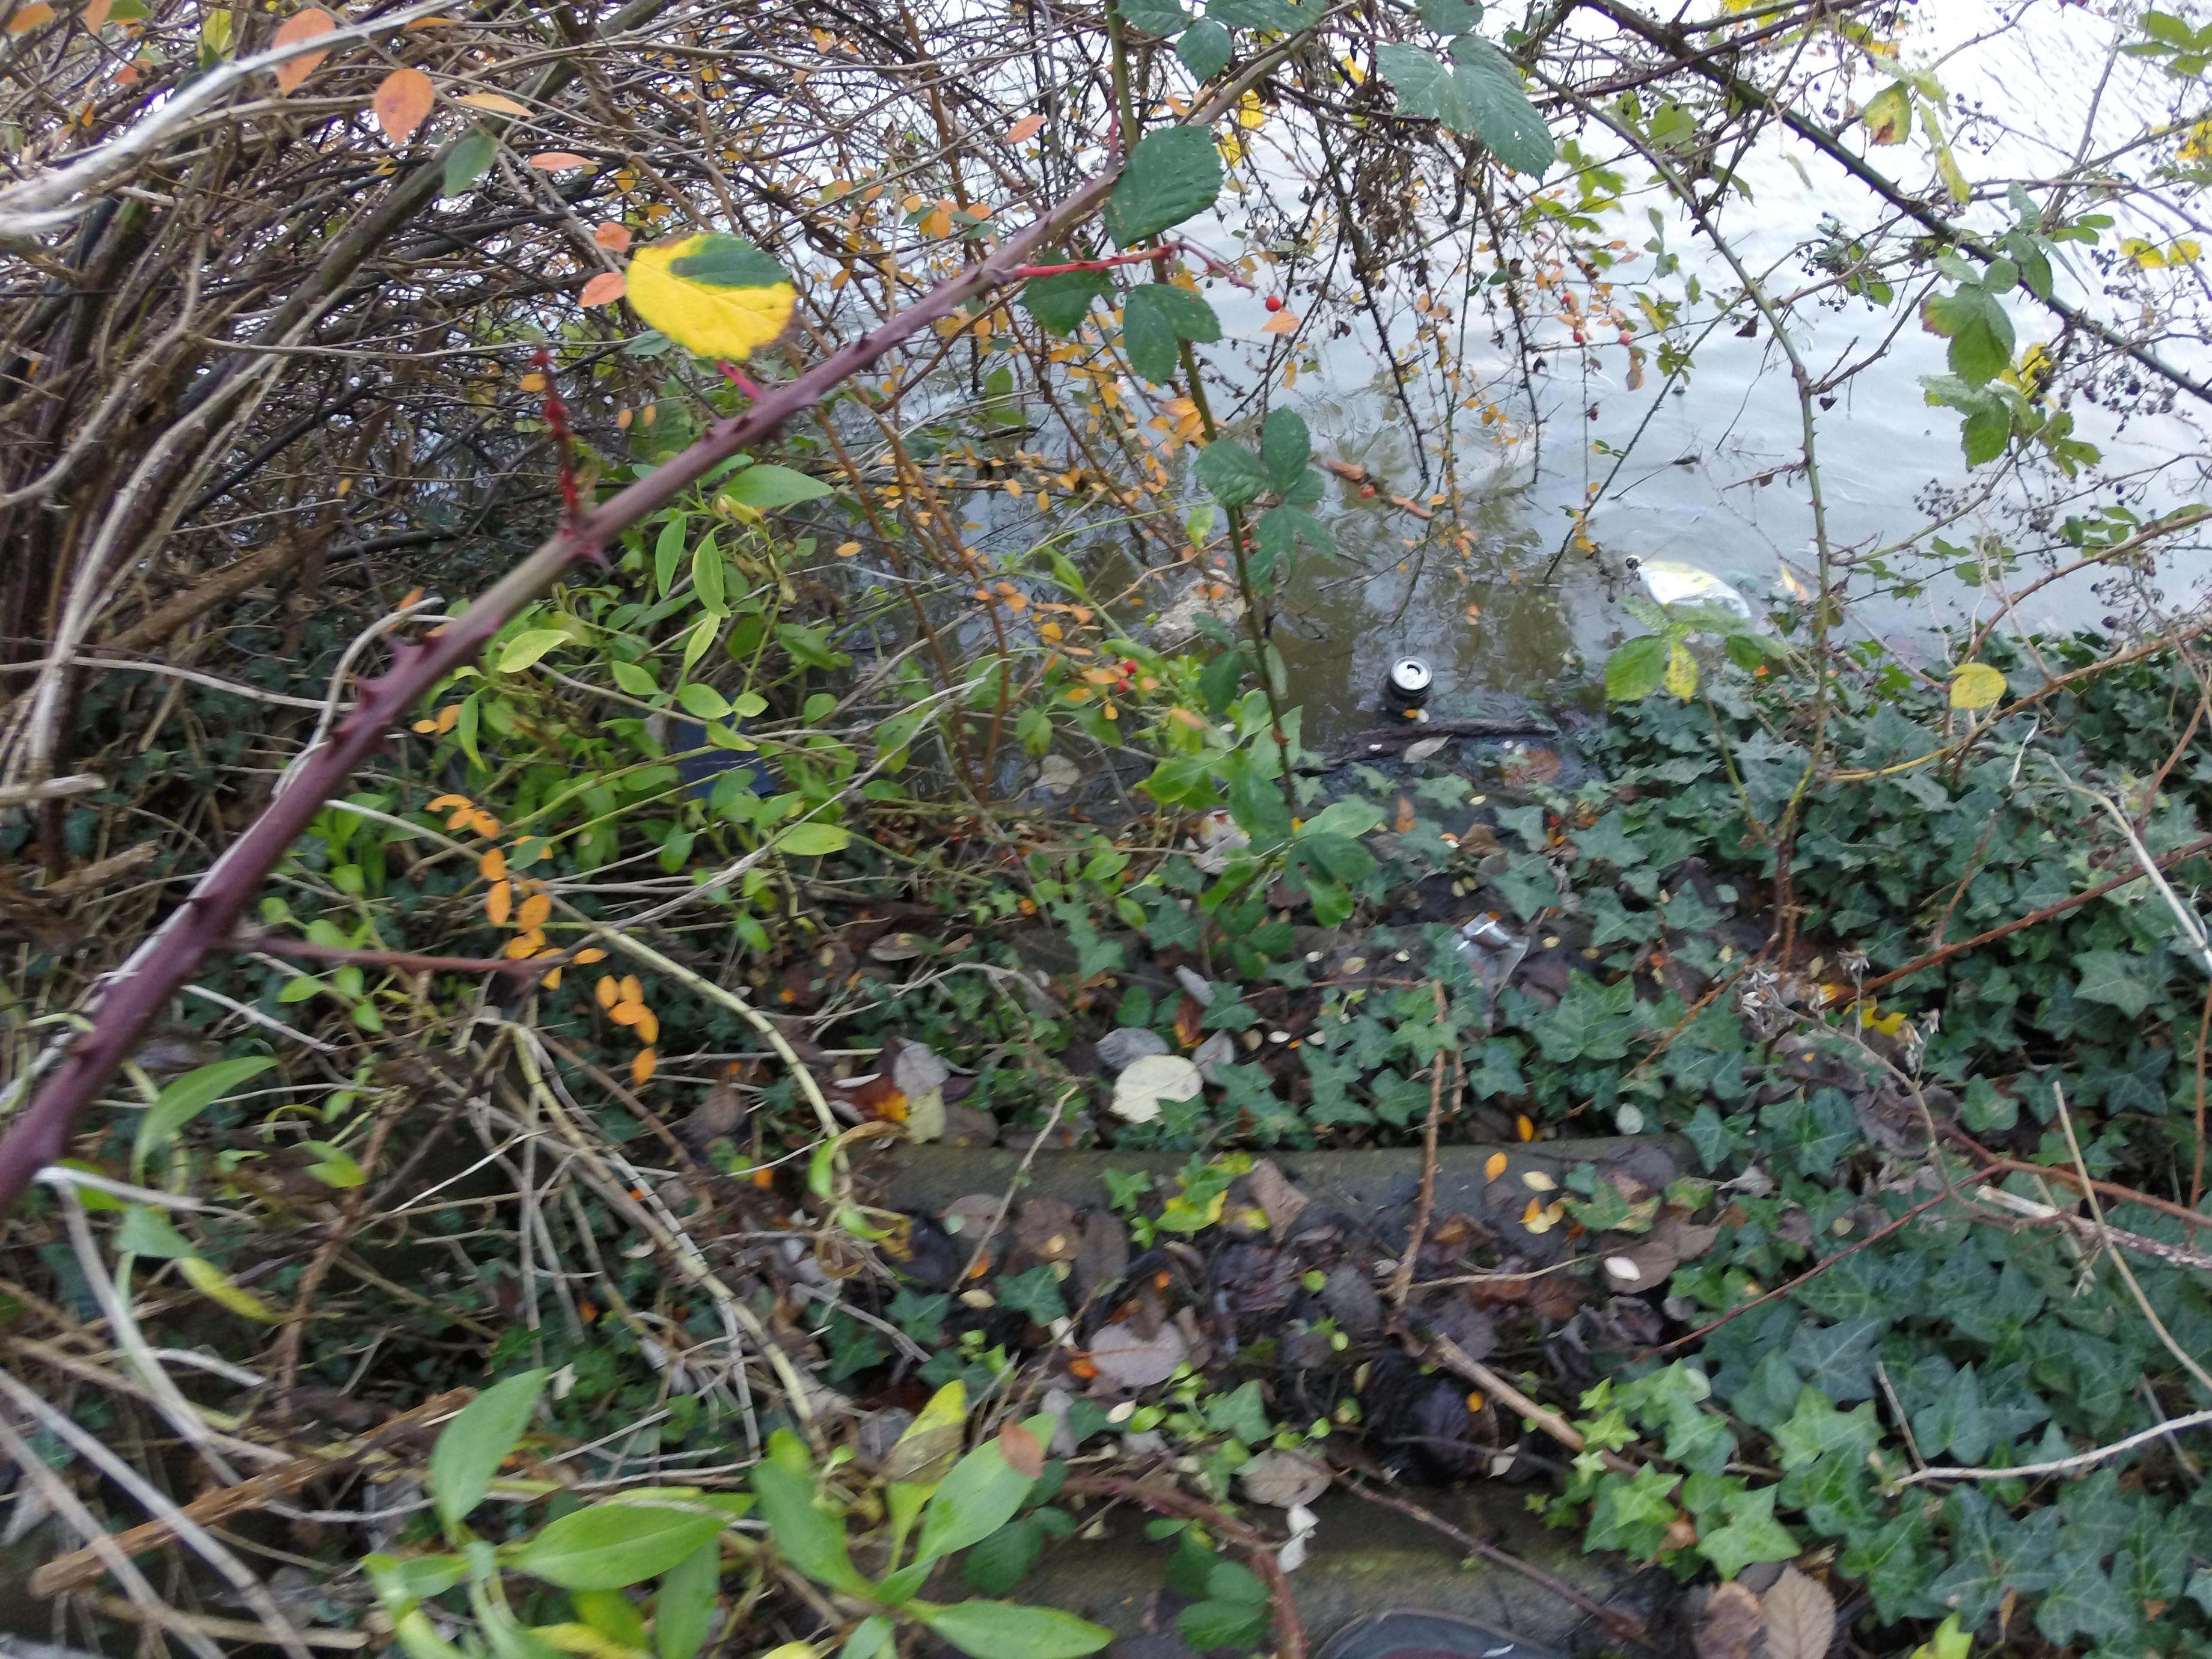Trash: (1634, 556, 1742, 613), (1383, 655, 1430, 723)
